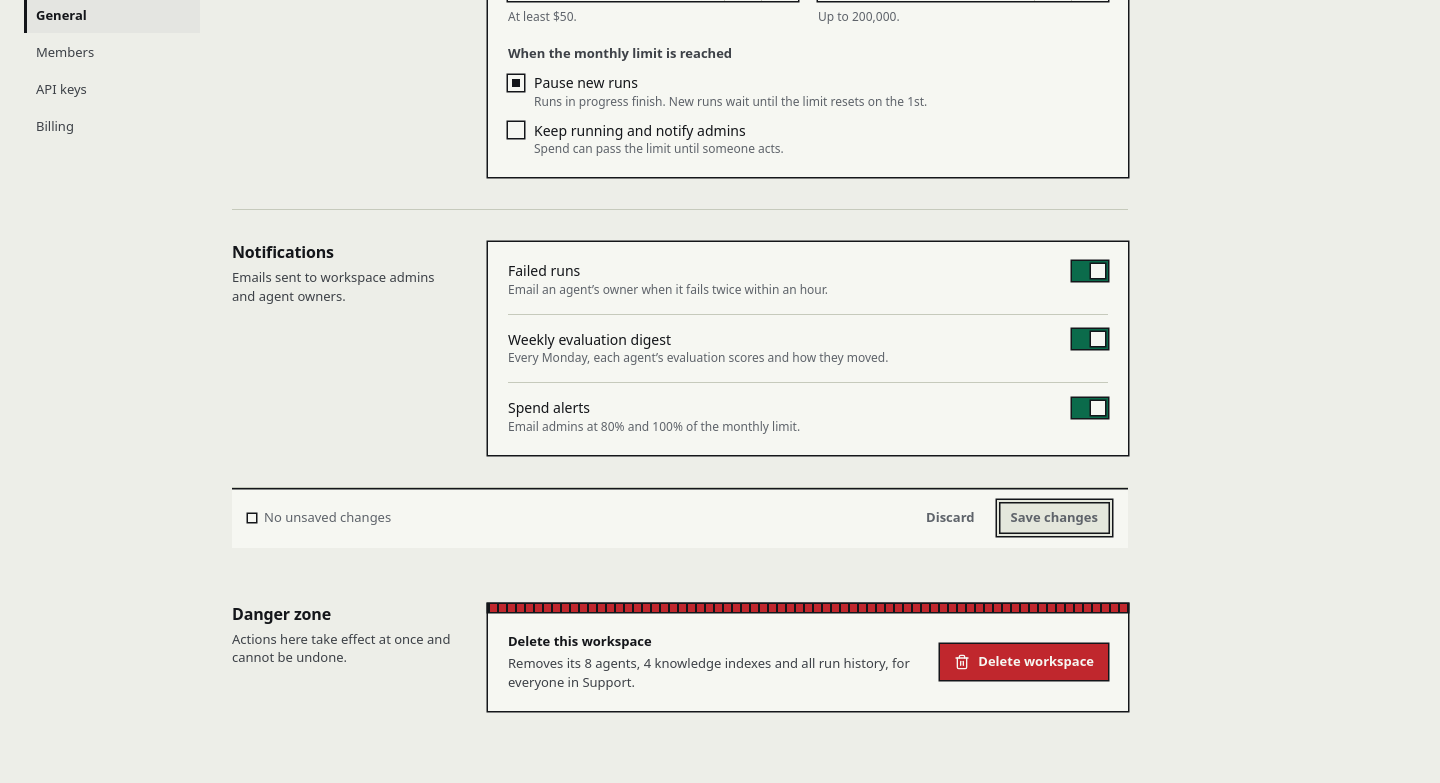
Test case: SettingsPage › deletes the workspace only after its slug is typed, naming what is lost
The width and height of the screenshot is (1440, 783).
(page scrolled)
Click the button "Delete workspace".
click(1024, 662)  # box [940,644,1108,680]
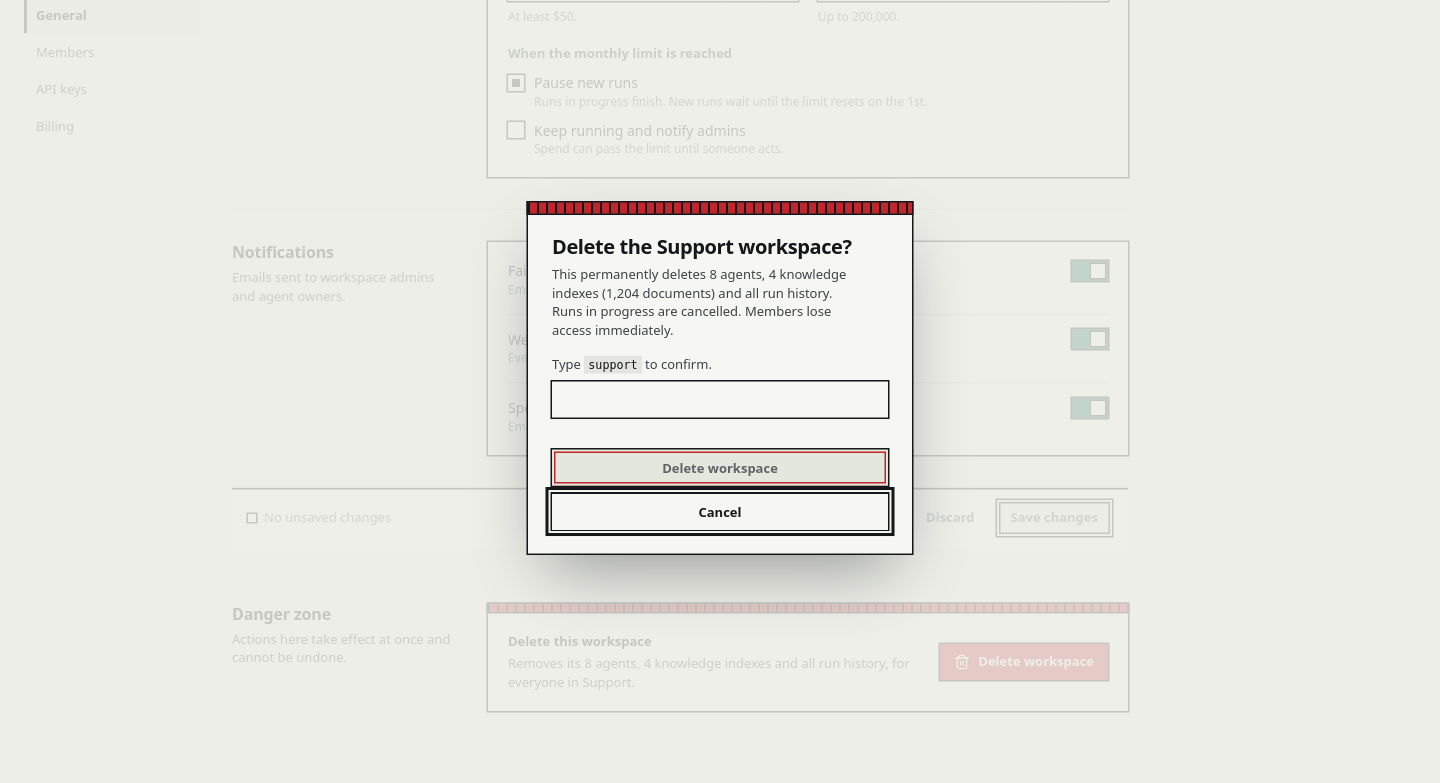
expect the dialog "Delete the Support workspace?" shows "8 agents, 4 knowledge indexes (1,204 documents) and all run history": met, box [552,264,846,338]
expect the button "Delete workspace" is disabled: met, box [552,450,888,486]
Type "support" into the field.
click(720, 400); type("support")  # box [552,382,888,418]
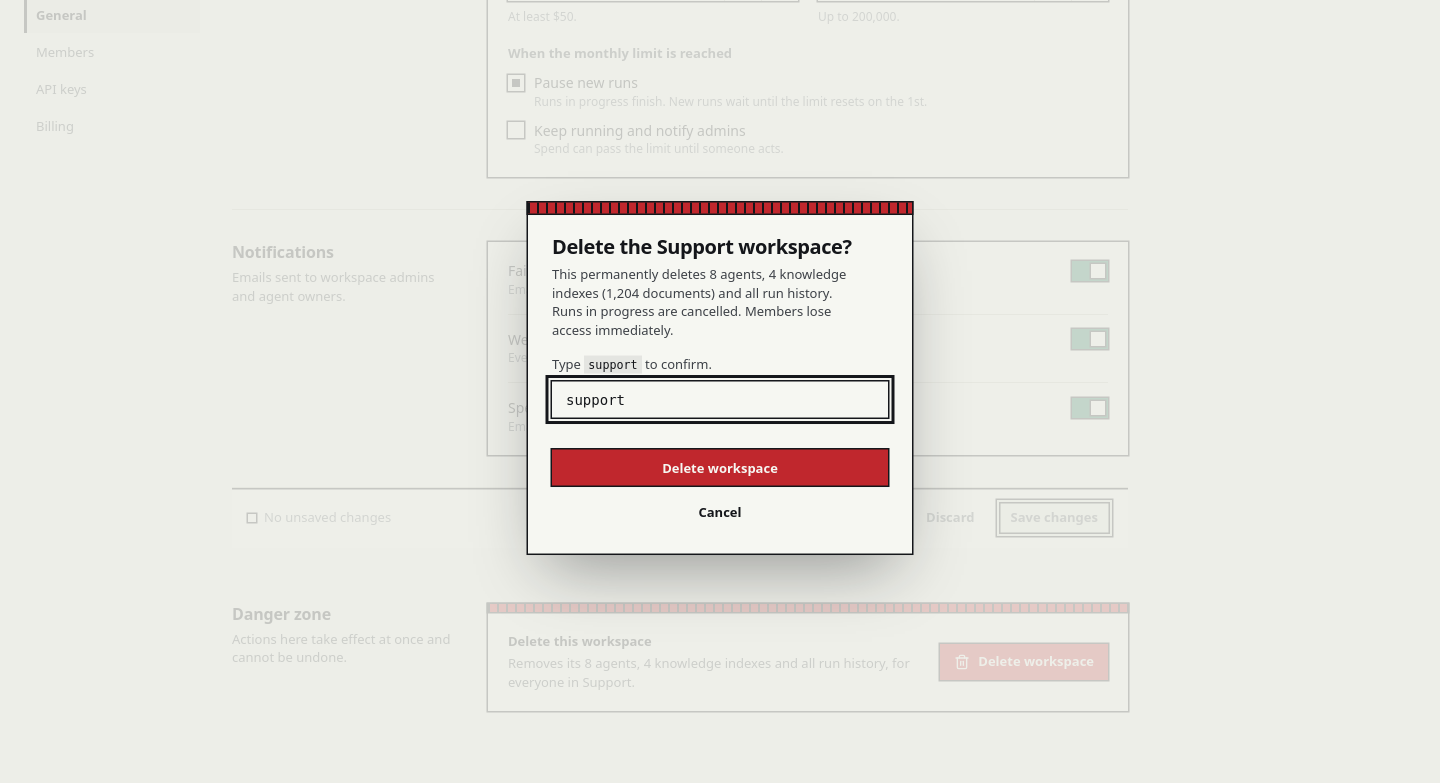
expect the button "Delete workspace" is enabled: met, box [552,450,888,486]
Press Enter
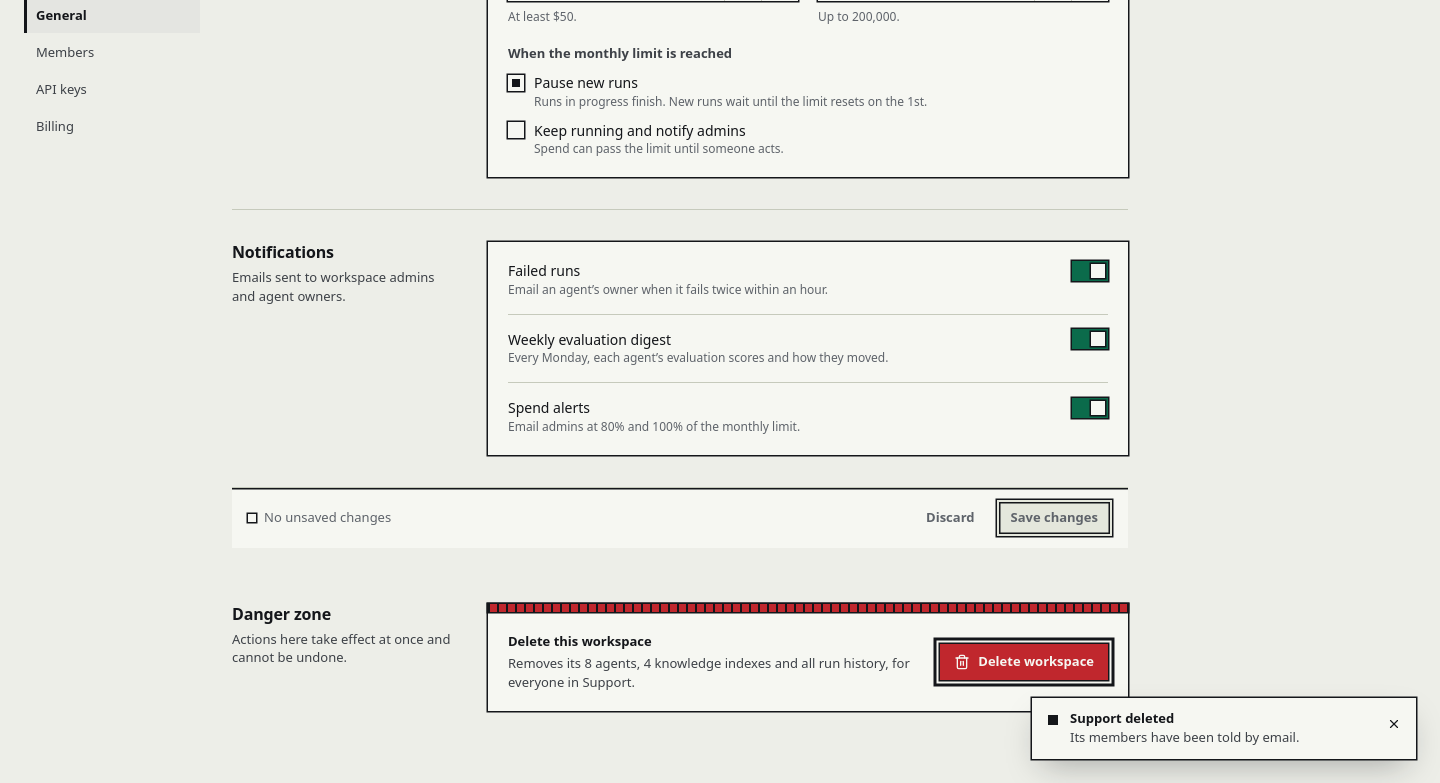
expect the heading "Support deleted" is shown: met, box [1070,709,1174,727]
